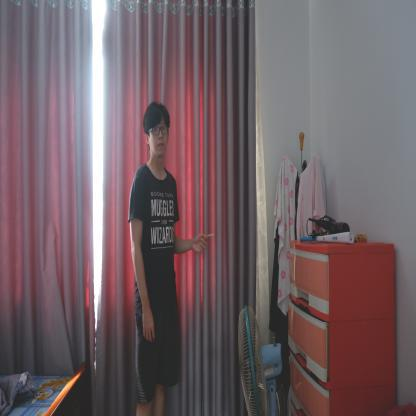cigarette: (204, 233, 214, 238)
person: (128, 99, 184, 415)
